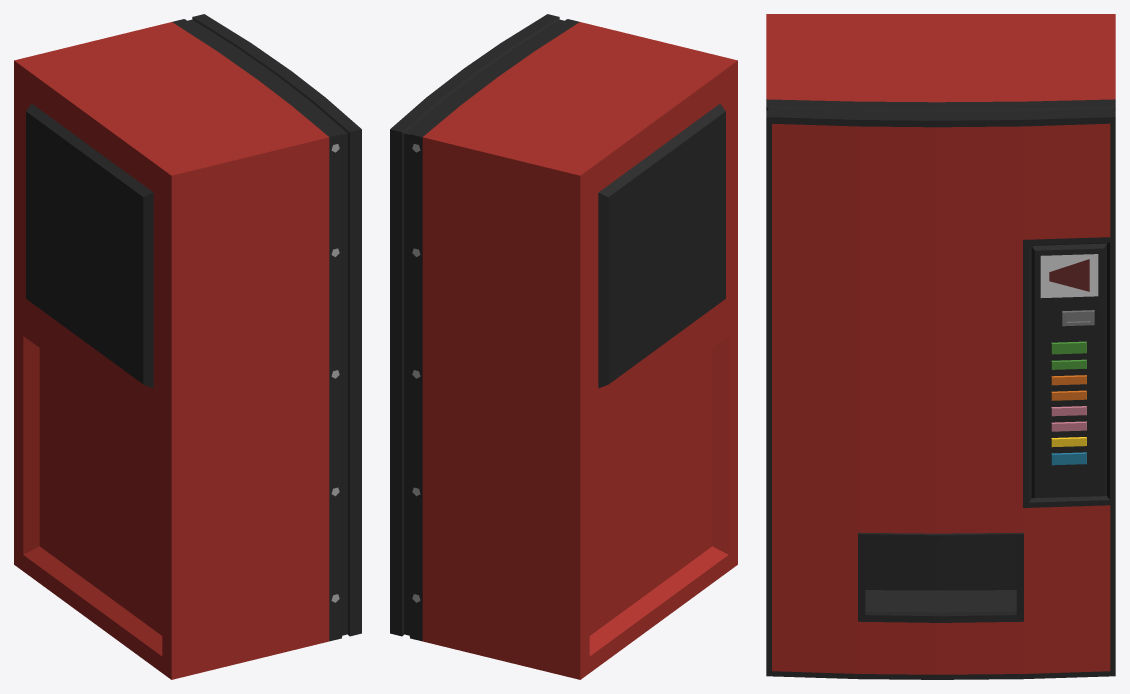
File: SM_vending_machine_1.gltf
3 views of the same model, side by side, from view 1: azimuth 30°, elevation 25°; view 2: azimuth 150°, elevation 25°; view 3: azimuth 270°, elevation 25° (orthographic). The views are drawn at different scales.
Visible parts, largest first — view 1: SM_vending_machine_1; view 2: SM_vending_machine_1; view 3: SM_vending_machine_1.
Boxes of the visible parts, left/top/right/bottom form: SM_vending_machine_1: left=14, top=14, right=361, bottom=679; SM_vending_machine_1: left=390, top=14, right=737, bottom=679; SM_vending_machine_1: left=766, top=14, right=1115, bottom=679.
Bounding box in the file's own units: 0.9201 × 2.13 × 1.2.
1 material, 1 textured.
